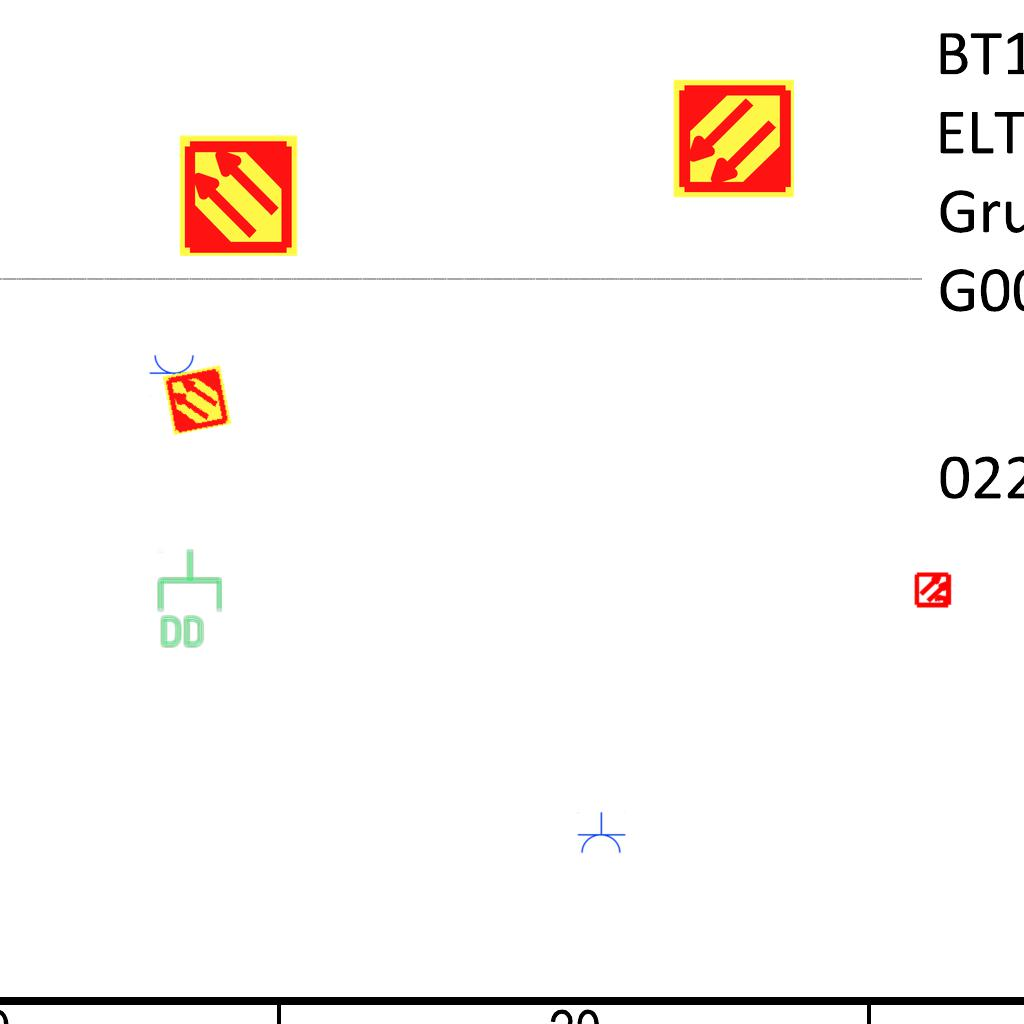ASR_Ansaugrauchmelder: (176, 133, 301, 258), (671, 76, 796, 201), (160, 363, 234, 437)
Datenanschluss_zweifach: (155, 547, 224, 650)
OT_Multisensormelder_(Kombination_RMO_WMD): (906, 562, 962, 618)
Schukosteckdose_einfach: (576, 812, 626, 855), (149, 353, 199, 396)
